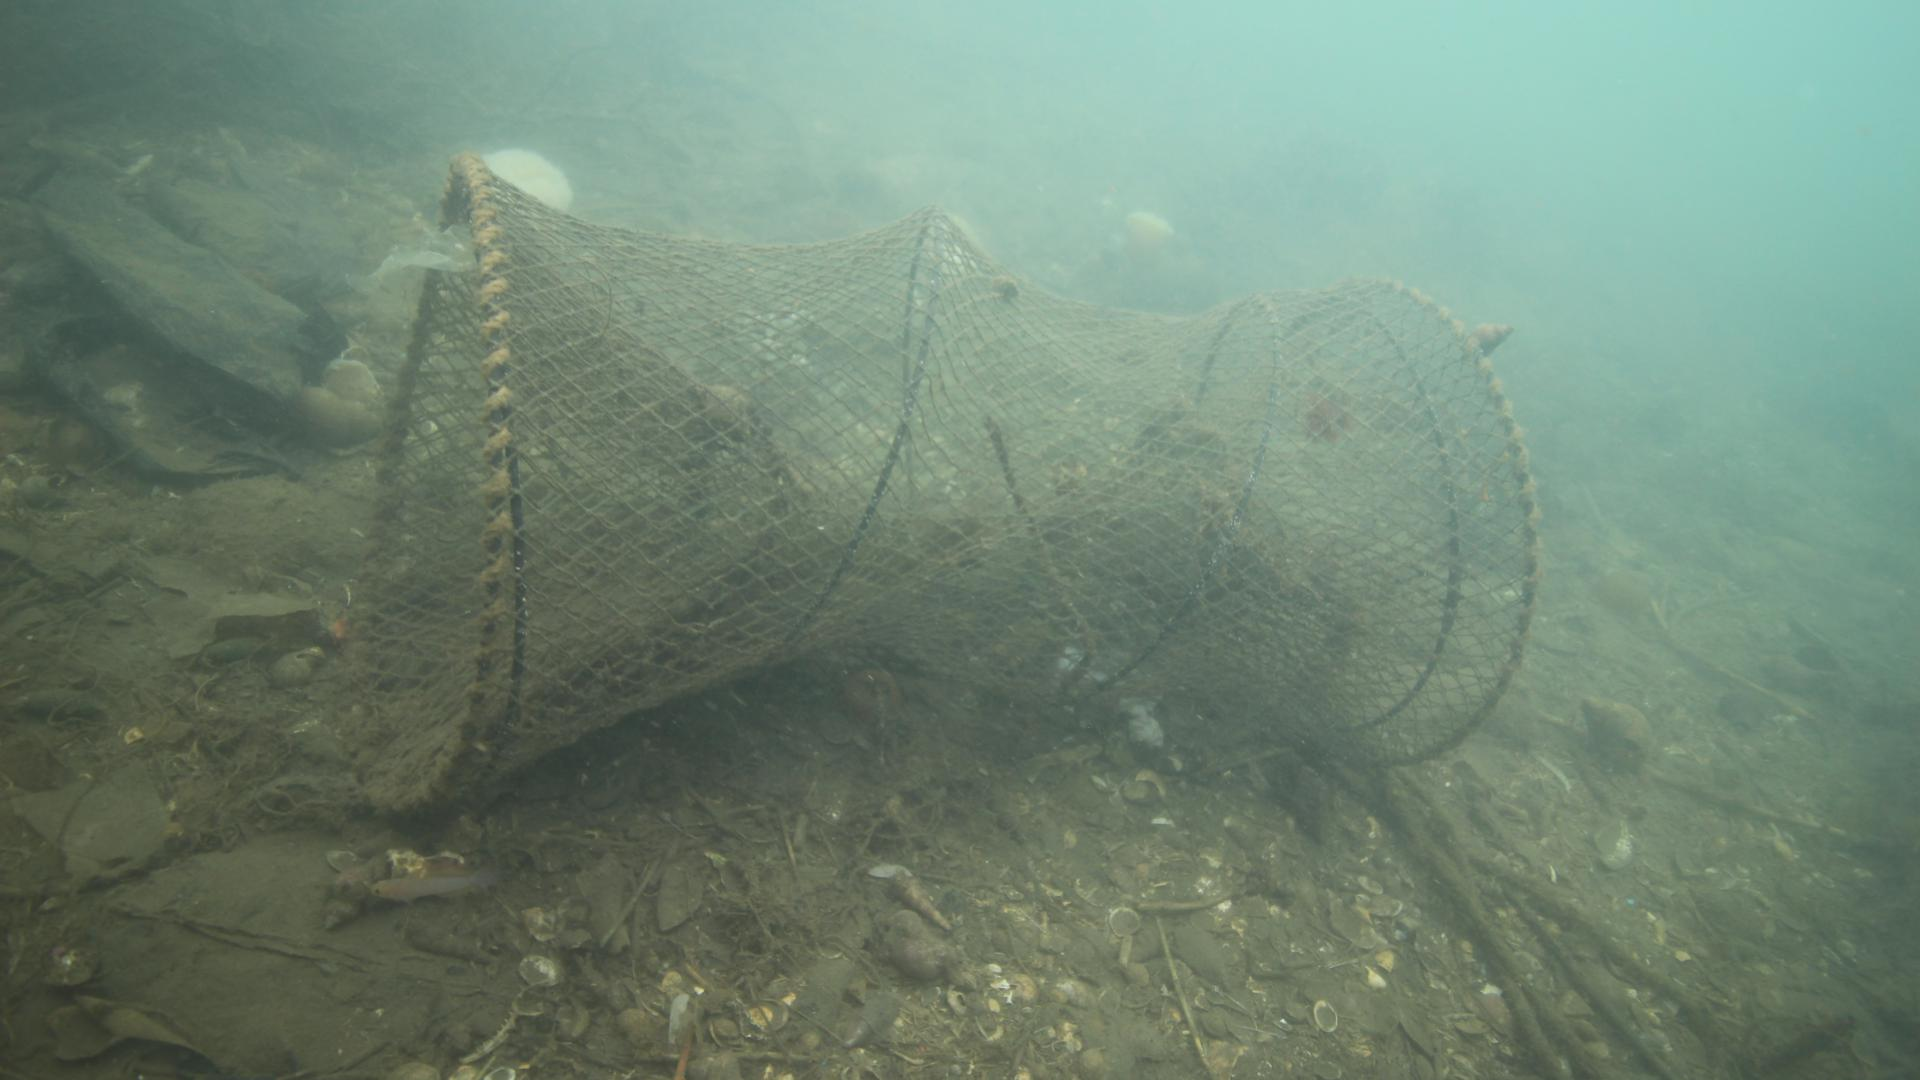bundle of ropes: (1385, 764, 1596, 1080)
spring fish trap: (353, 146, 1539, 822)
